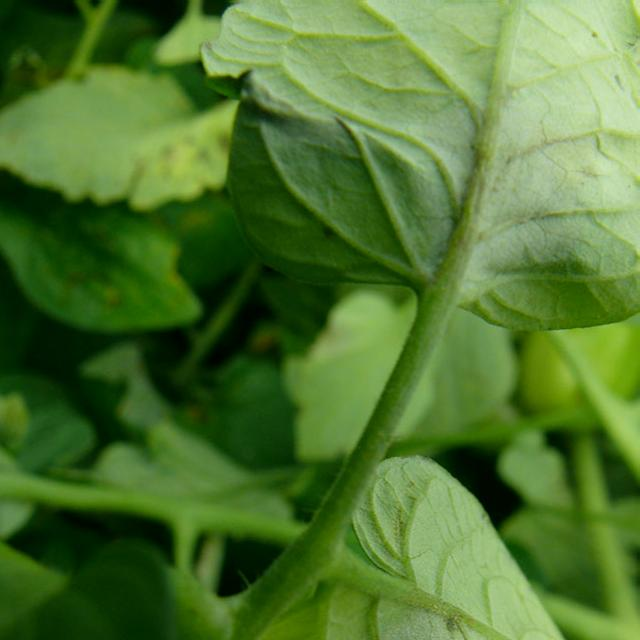Tomato leaf late blight: (180, 0, 640, 326), (193, 444, 627, 640)
